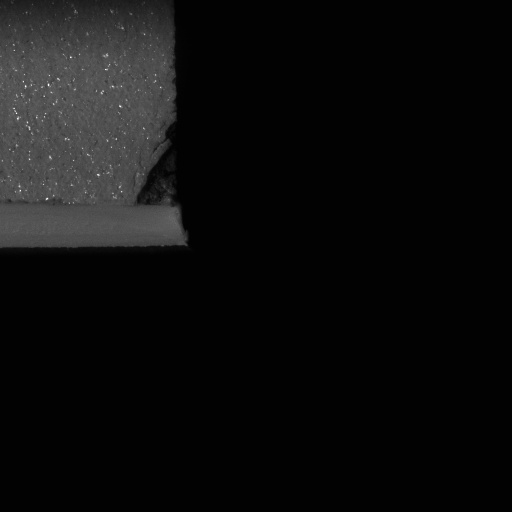bengque: (134, 125, 182, 211)
